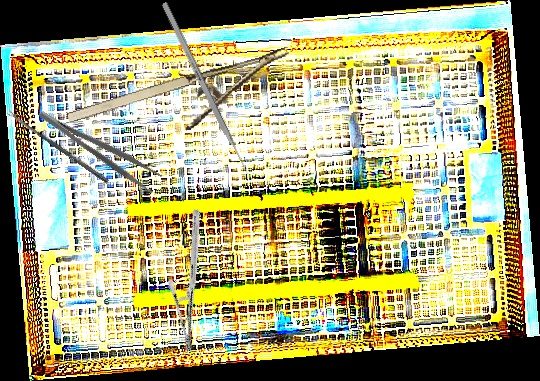Dressing Forceps: (36, 99, 164, 195)
Needle Holder: (65, 46, 302, 160), (131, 207, 254, 355)
Pusher: (160, 1, 255, 184)
Surgical Spoon: (6, 109, 110, 184)
